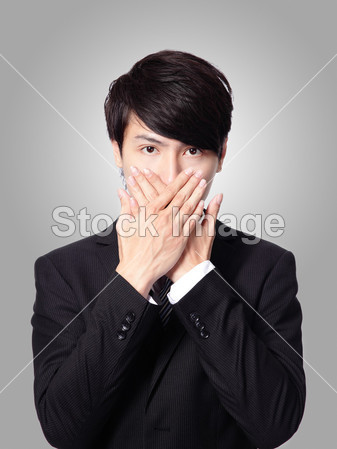face: (123, 102, 215, 237)
